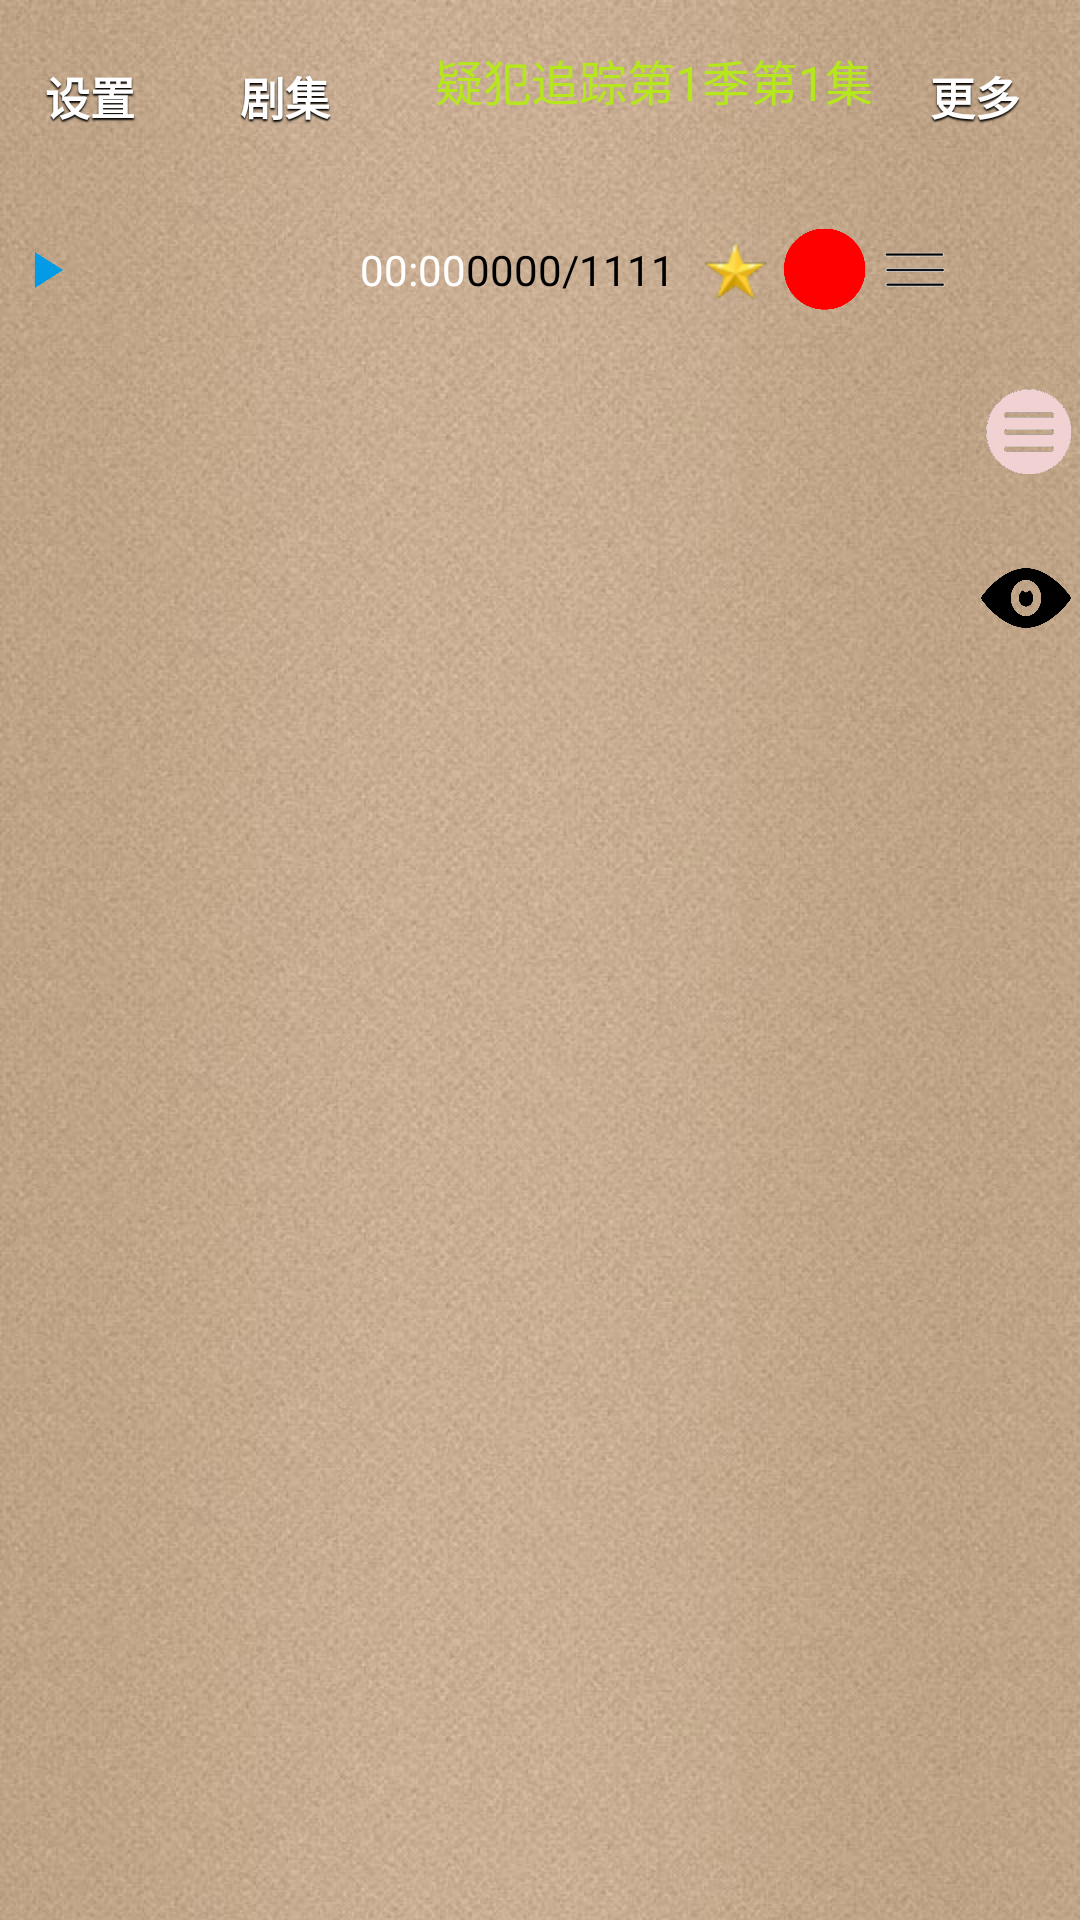

Screen size 1080 × 1920. Icon name, then its center in pixels as point (x, y):
eng menu: point (1028, 431)
eye open: point (1026, 598)
multi line: point (915, 269)
simple play: point (48, 270)
star: point (736, 271)
